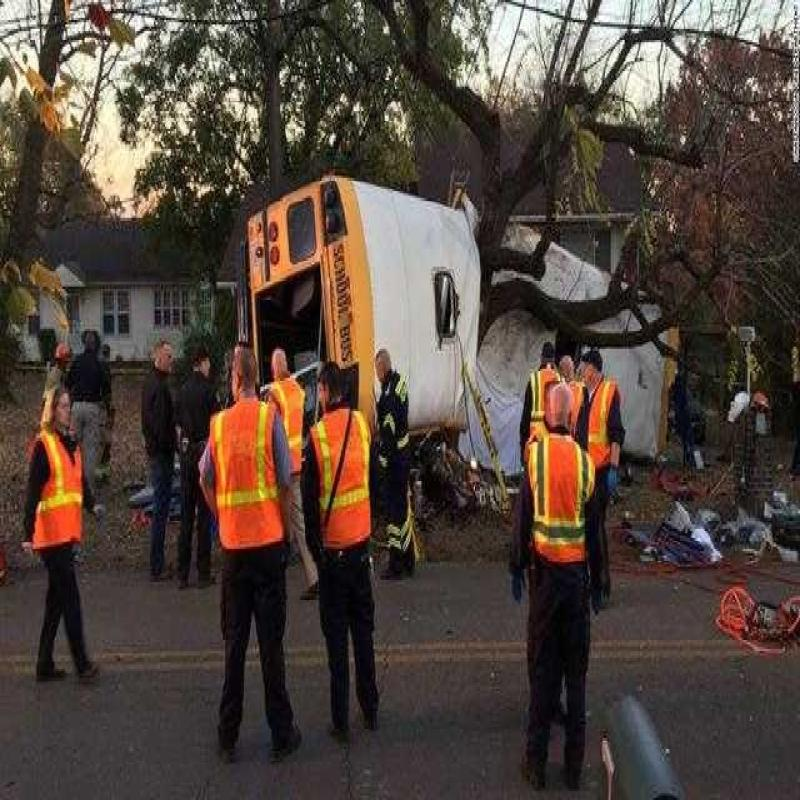bus: (229, 116, 467, 414)
